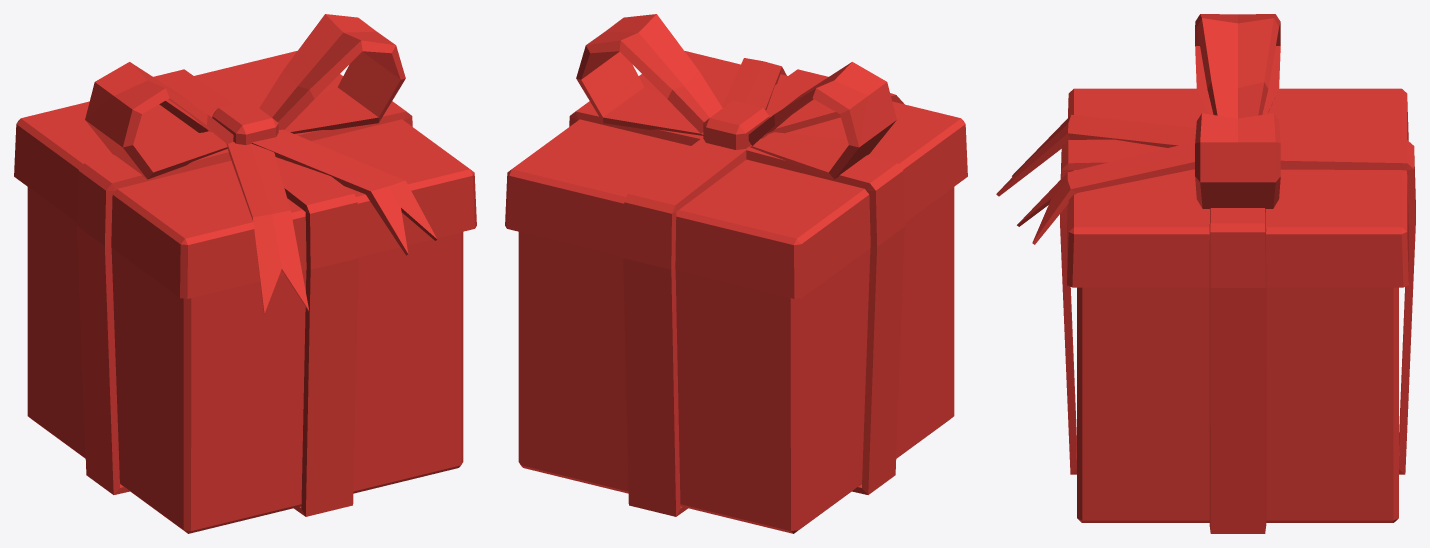
Rendered from SM_Gift_Christmas_Cube_D.fbx.
3 renders of one model, left to right at view 1: azimuth 30°, elevation 25°; view 2: azimuth 150°, elevation 25°; view 3: azimuth 270°, elevation 25°, orthographic.
Parts seen in each view (by area): view 1: gift-christmas-cube-d; view 2: gift-christmas-cube-d; view 3: gift-christmas-cube-d.
Boxes of the visible parts, left/top/right/bottom form: gift-christmas-cube-d: left=14, top=14, right=476, bottom=533; gift-christmas-cube-d: left=505, top=14, right=967, bottom=533; gift-christmas-cube-d: left=996, top=14, right=1415, bottom=533.
Bounding box in the file's own units: 0.3317 × 0.4116 × 0.3912.
